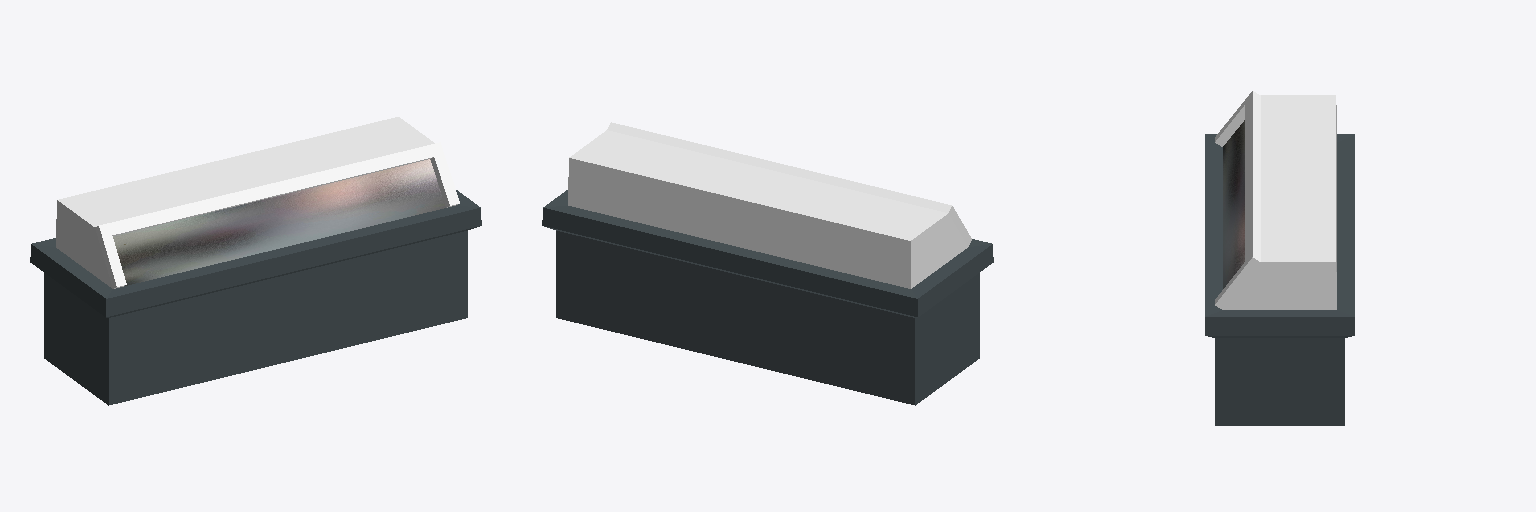
3 renders of one model, left to right at view 1: azimuth 30°, elevation 25°; view 2: azimuth 150°, elevation 25°; view 3: azimuth 270°, elevation 25°, orthographic.
Visible parts, largest first — view 1: pasted__escritorio_trasero1 group; view 2: pasted__escritorio_trasero1 group; view 3: pasted__escritorio_trasero1 group.
Part boxes in pixels (x1,y1,x2,y2): pasted__escritorio_trasero1 group: (30,117,481,405); pasted__escritorio_trasero1 group: (542,122,993,405); pasted__escritorio_trasero1 group: (1205,91,1354,425).
Size of the model in its own units: 6.13 by 2.56 by 2.13.
Materials: 4 (3 with a texture image).